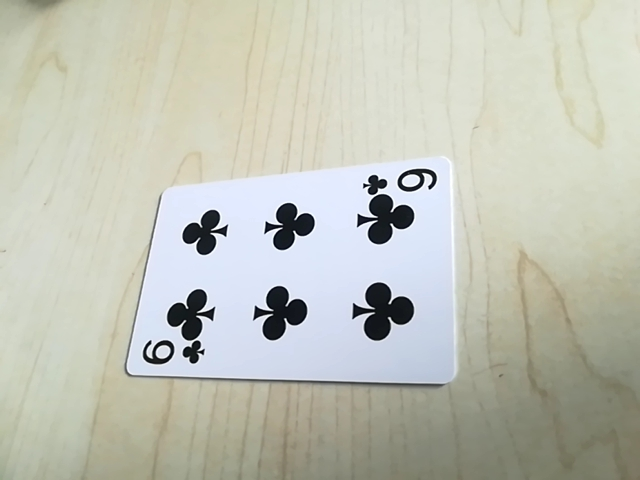mh 6: (361, 162, 444, 196), (135, 338, 204, 369)
